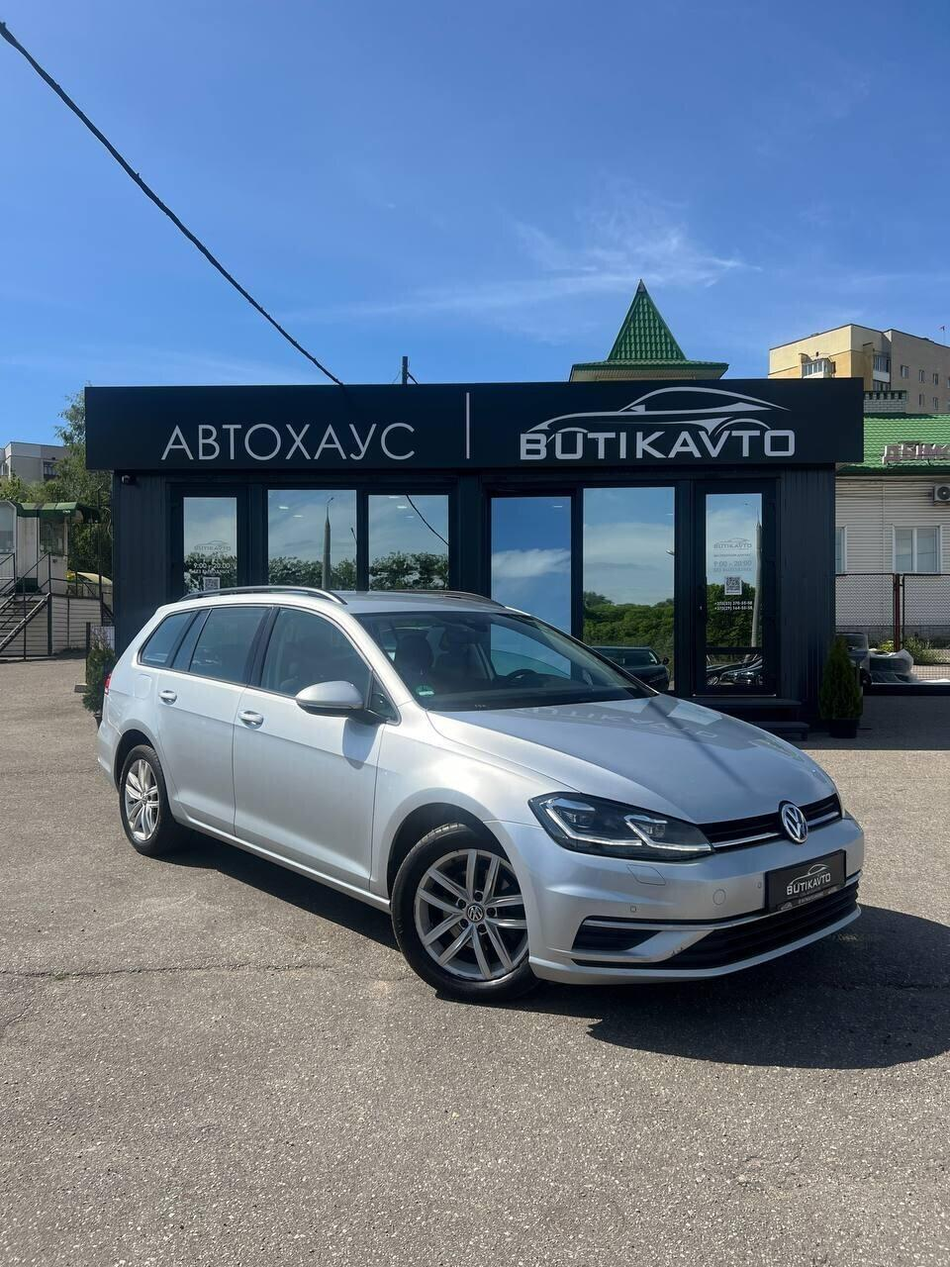Golf_2017-2021: (91, 591, 869, 1006)
